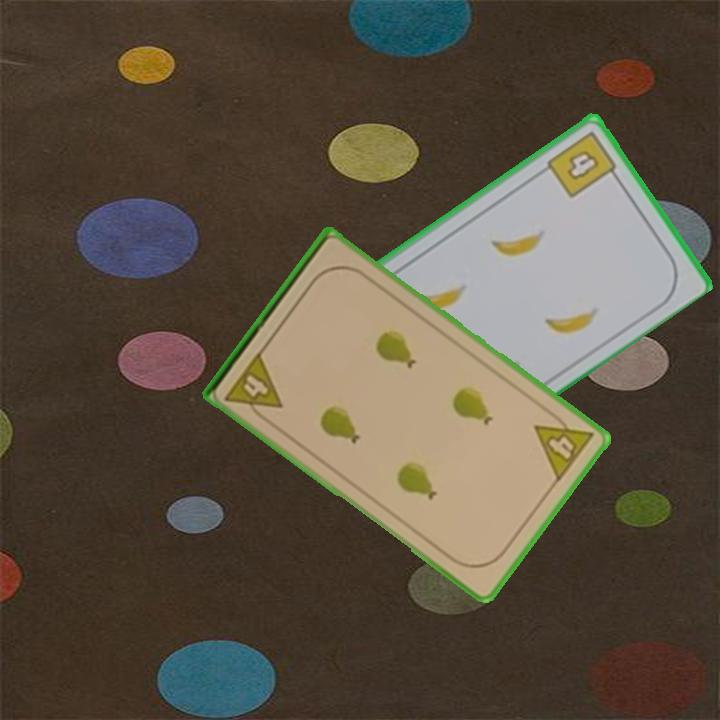4b: (543, 127, 623, 201)
4p: (530, 405, 597, 485), (221, 348, 286, 426)
